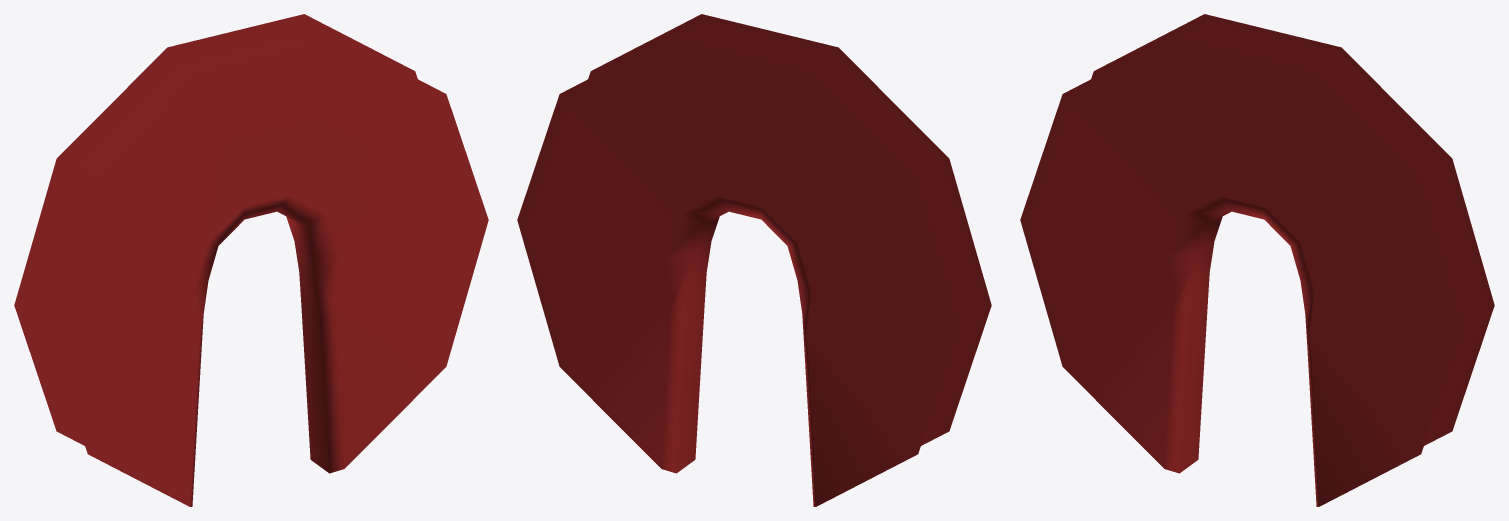
File: ObstaculoPlaqueta1_GAME.fbx
3 views of the same model, side by side, from view 1: azimuth 30°, elevation 25°; view 2: azimuth 150°, elevation 25°; view 3: azimuth 330°, elevation 25° (orthographic).
Parts seen in each view (by area): view 1: ObstaculoHemacia1; view 2: ObstaculoHemacia1; view 3: ObstaculoHemacia1.
Boxes of the visible parts, left/top/right/bottom form: ObstaculoHemacia1: left=14, top=14, right=488, bottom=506; ObstaculoHemacia1: left=517, top=14, right=991, bottom=506; ObstaculoHemacia1: left=1020, top=14, right=1494, bottom=506.
Size of the model in its own units: 500 by 476 by 60.96.
